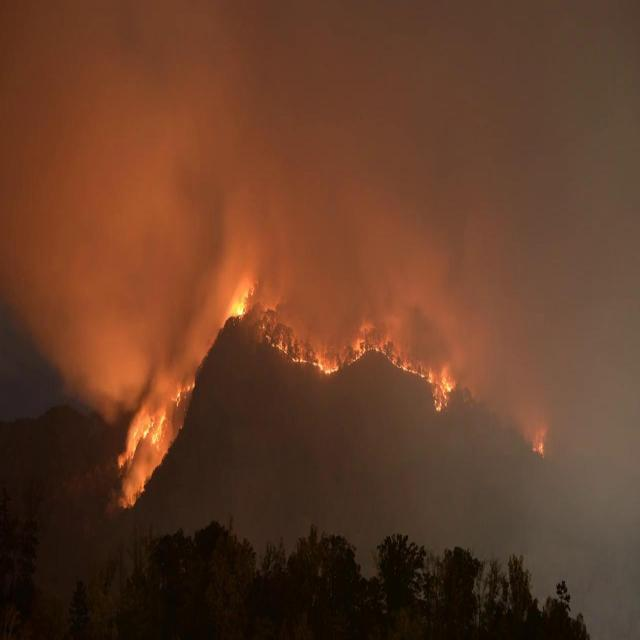Fire: (116, 404, 172, 505), (268, 332, 340, 375), (387, 354, 427, 378), (227, 284, 255, 316), (433, 372, 455, 412), (349, 338, 384, 363), (171, 381, 197, 402), (534, 432, 548, 461)
